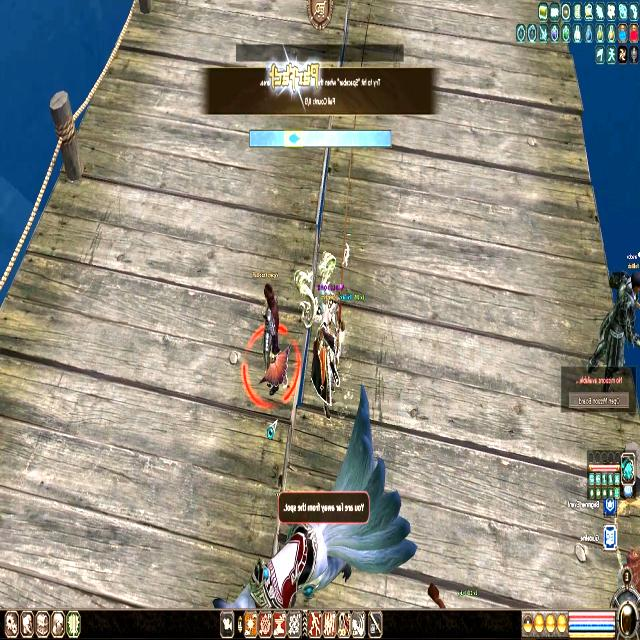fishes: (287, 131, 302, 145)
